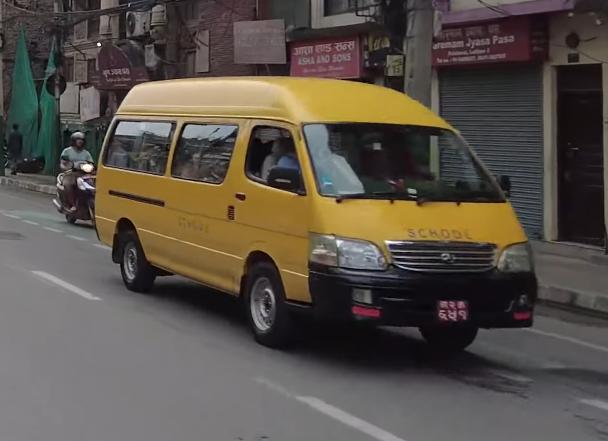school_bus: (87, 71, 538, 361)
scooter: (50, 155, 104, 229)
